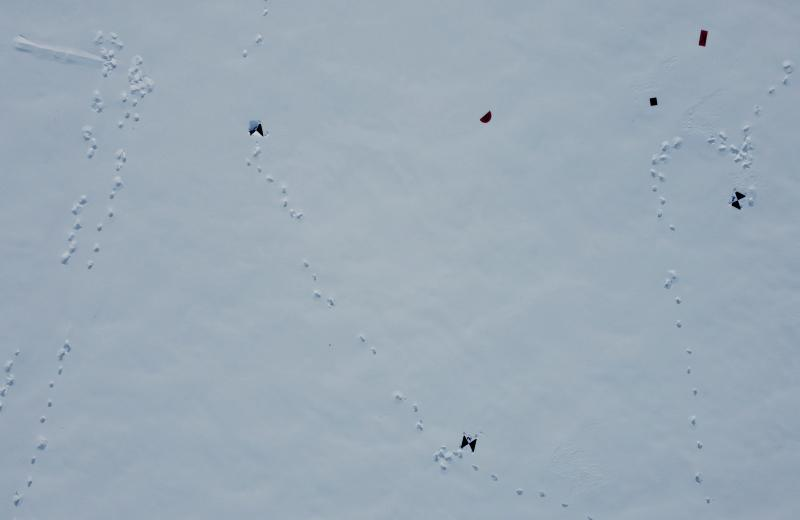Rectangle: (698, 28, 708, 49)
Semi Circle: (480, 109, 493, 125)
Square: (649, 97, 658, 107)
